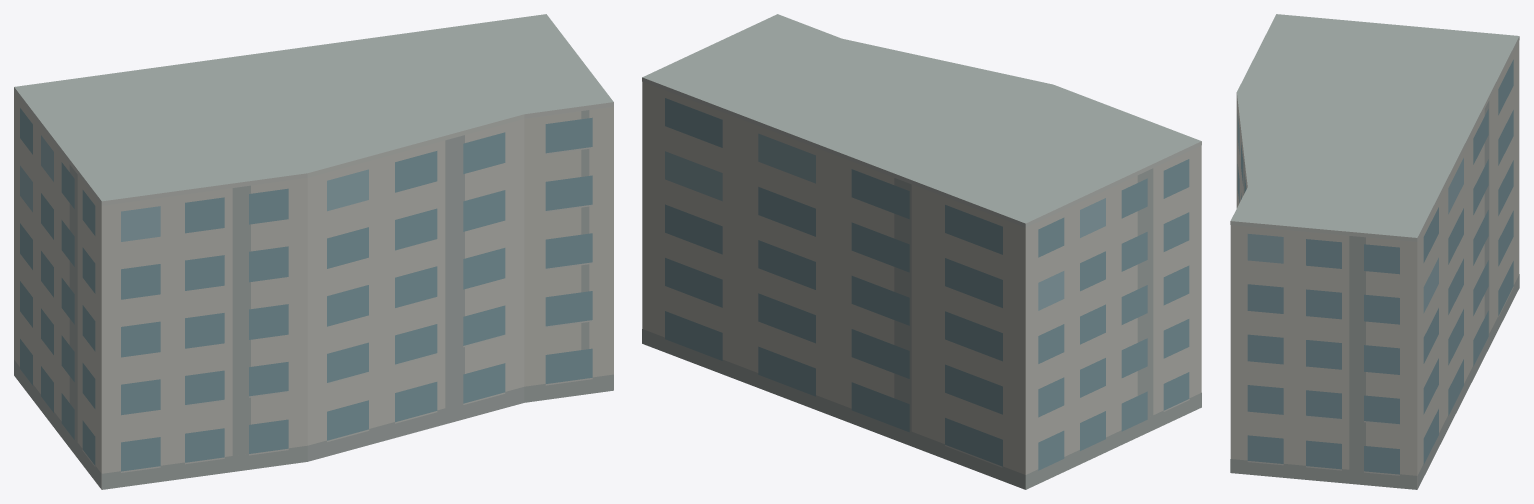
The model's file is residential-255a4a60-6dfe-4de5-9006-b38b823dff38.glb.
3 renders of one model, left to right at view 1: azimuth 30°, elevation 25°; view 2: azimuth 150°, elevation 25°; view 3: azimuth 270°, elevation 25°, orthographic. The views are drawn at different scales.
Parts seen in each view (by area): view 1: residential-255a4a60-6dfe-4de5-9006-b38b823dff38.tmp; view 2: residential-255a4a60-6dfe-4de5-9006-b38b823dff38.tmp; view 3: residential-255a4a60-6dfe-4de5-9006-b38b823dff38.tmp.
Part boxes in pixels (x1,y1,x2,y2): residential-255a4a60-6dfe-4de5-9006-b38b823dff38.tmp: [14, 14, 613, 489]; residential-255a4a60-6dfe-4de5-9006-b38b823dff38.tmp: [642, 14, 1201, 489]; residential-255a4a60-6dfe-4de5-9006-b38b823dff38.tmp: [1230, 14, 1519, 489].
Size of the model in its own units: 29.08 by 15.25 by 15.86.
